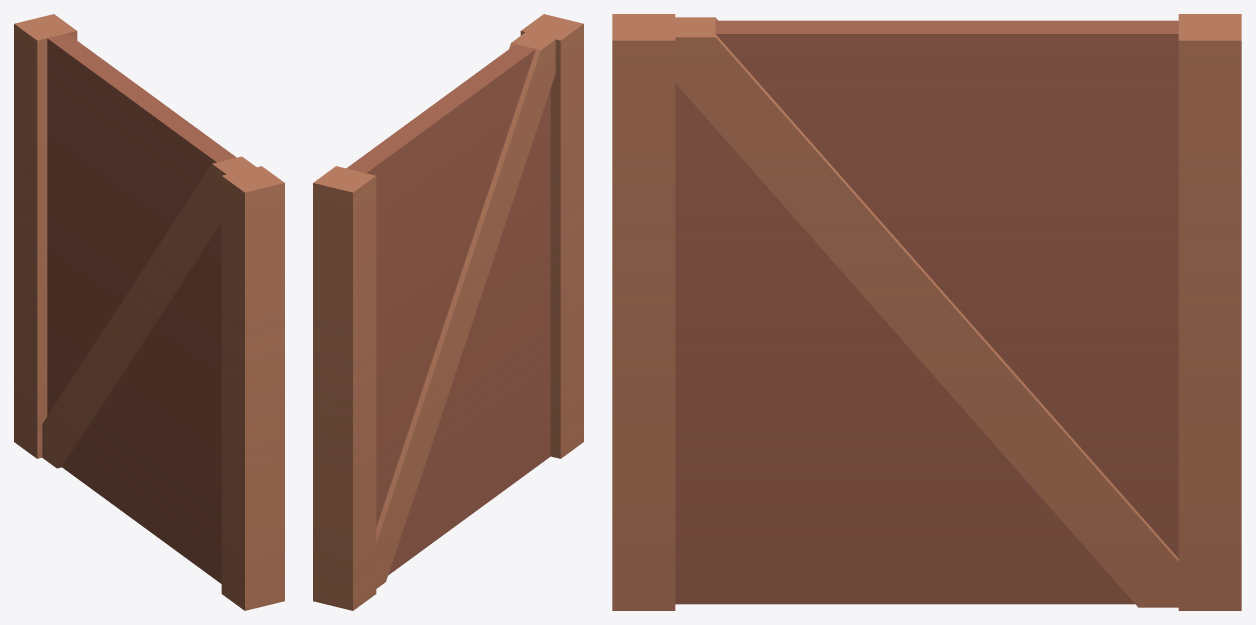
Rendered from wall-wood-detail-diagonal.fbx.
3 views of the same model, side by side, from view 1: azimuth 30°, elevation 25°; view 2: azimuth 150°, elevation 25°; view 3: azimuth 270°, elevation 25° (orthographic). The views are drawn at different scales.
Parts seen in each view (by area): view 1: wall-wood-detail-diagonal; view 2: wall-wood-detail-diagonal; view 3: wall-wood-detail-diagonal.
Boxes of the visible parts, bbox=[...] form: wall-wood-detail-diagonal: bbox=[14, 14, 284, 610]; wall-wood-detail-diagonal: bbox=[313, 14, 583, 610]; wall-wood-detail-diagonal: bbox=[612, 14, 1241, 610].
Size of the model in its own units: 10 by 100 by 100.
Materials: 1 (1 with a texture image).
